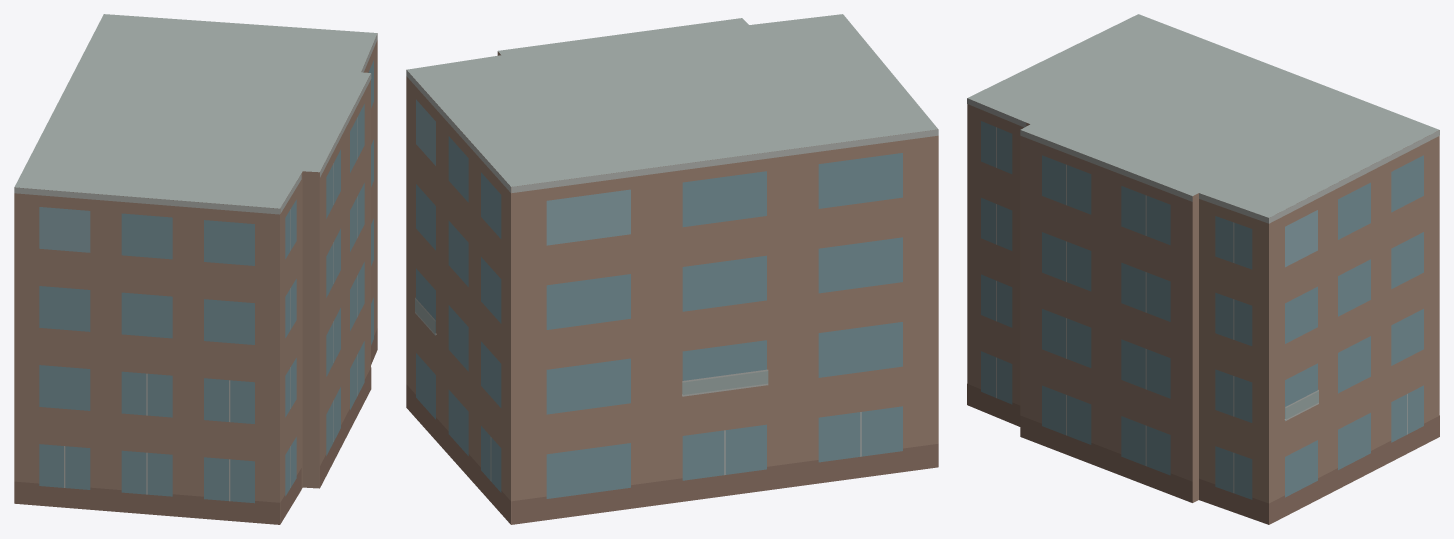
File: survey-upis-32940065.glb
3 renders of one model, left to right at view 1: azimuth 30°, elevation 25°; view 2: azimuth 150°, elevation 25°; view 3: azimuth 270°, elevation 25°, orthographic. The views are drawn at different scales.
Parts seen in each view (by area): view 1: survey-upis-32940065.tmp; view 2: survey-upis-32940065.tmp; view 3: survey-upis-32940065.tmp.
Part boxes in pixels (left/top/right/bottom): survey-upis-32940065.tmp: left=14, top=14, right=377, bottom=524; survey-upis-32940065.tmp: left=406, top=14, right=938, bottom=524; survey-upis-32940065.tmp: left=967, top=14, right=1439, bottom=524.
Size of the model in its own units: 18.53 by 13 by 18.15.
